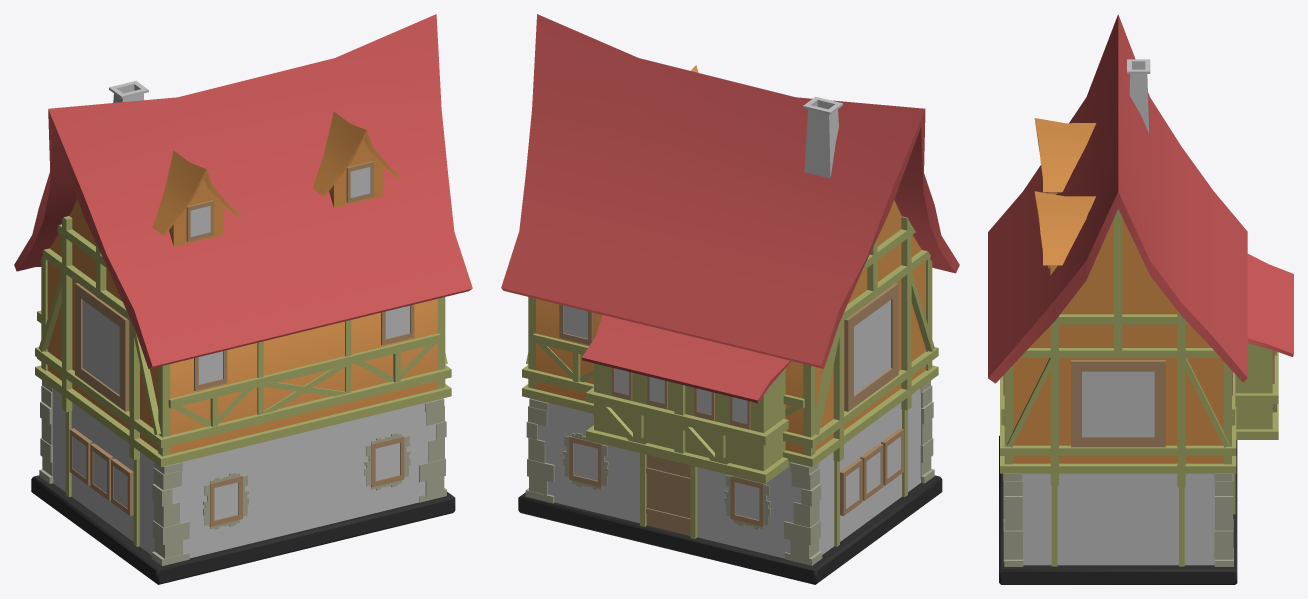
File: house.fbx
The picture shows the model from 3 angles, left to right: view 1: azimuth 30°, elevation 25°; view 2: azimuth 150°, elevation 25°; view 3: azimuth 270°, elevation 25°; orthographic projection. The views are drawn at different scales.
Parts seen in each view (by area): view 1: Cube_1, Cube_2_3, Cube_2, Cube_5_19, Cube_2_2, Cube_1_2, Tube_14, Cube_5_20, Cube_11_6, Cube_11_7, Cube_6_6, Cube_10_6 (+19 smaller); view 2: Cube_1, Cube_2_3, Cube_11_5, Cube_2, Cube_10_5, Cube_5_19, Cube_7, Tube_14, Cube_2_2, Cube_13_5, Cube_5_20, Cube_14_5 (+22 smaller); view 3: Cube_1, Cube_2_3, Cube_2, Cube_5_20, Cube_11_5, Tube_14, Cube_11_6, Cube_11_7, Cube_2_2, Cube_5_19, Cube_10_5, Cube_11_8 (+13 smaller).
Boxes of the visible parts, x1=… form: Cube_1: x1=14, y1=14, x2=472, y2=368; Cube_2_3: x1=47, y1=198, x2=442, y2=558; Cube_2: x1=31, y1=475, x2=455, y2=584; Cube_5_19: x1=35, y1=365, x2=451, y2=466; Cube_2_2: x1=35, y1=347, x2=451, y2=448; Cube_1_2: x1=168, y1=333, x2=440, y2=408; Tube_14: x1=75, y1=283, x2=129, y2=411; Cube_5_20: x1=82, y1=300, x2=119, y2=394; Cube_11_6: x1=152, y1=150, x2=241, y2=235; Cube_11_7: x1=312, y1=111, x2=401, y2=196; Cube_6_6: x1=62, y1=216, x2=72, y2=412; Cube_10_6: x1=169, y1=179, x2=223, y2=246; Cube_1: x1=501, y1=14, x2=959, y2=368; Cube_2_3: x1=531, y1=200, x2=925, y2=558; Cube_11_5: x1=581, y1=315, x2=791, y2=403; Cube_2: x1=518, y1=475, x2=942, y2=584; Cube_10_5: x1=594, y1=363, x2=785, y2=471; Cube_5_19: x1=522, y1=365, x2=938, y2=466; Cube_7: x1=646, y1=455, x2=690, y2=535; Tube_14: x1=844, y1=283, x2=898, y2=411; Cube_2_2: x1=522, y1=347, x2=938, y2=448; Cube_13_5: x1=586, y1=387, x2=788, y2=445; Cube_5_20: x1=854, y1=300, x2=890, y2=394; Cube_14_5: x1=586, y1=425, x2=788, y2=483; Cube_1: x1=988, y1=14, x2=1247, y2=383; Cube_2_3: x1=1013, y1=217, x2=1223, y2=565; Cube_2: x1=999, y1=435, x2=1237, y2=584; Cube_5_20: x1=1082, y1=371, x2=1154, y2=436; Cube_11_5: x1=1247, y1=254, x2=1293, y2=356; Tube_14: x1=1071, y1=360, x2=1165, y2=447; Cube_11_6: x1=1034, y1=118, x2=1096, y2=192; Cube_11_7: x1=1034, y1=191, x2=1095, y2=265; Cube_2_2: x1=1000, y1=378, x2=1236, y2=455; Cube_5_19: x1=1000, y1=456, x2=1236, y2=473; Cube_10_5: x1=1235, y1=343, x2=1272, y2=429; Cube_11_8: x1=1020, y1=348, x2=1220, y2=357.
Size of the model in its own units: 330 by 359 by 240.
